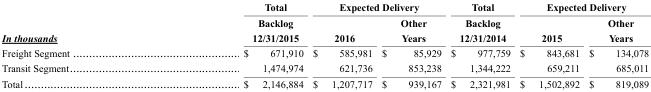table: (1, 0, 648, 89)
table column: (1, 0, 155, 89), (155, 0, 307, 89), (307, 0, 376, 89), (376, 0, 445, 89), (445, 0, 514, 89), (514, 0, 583, 89), (583, 0, 648, 89)
table column header: (1, 0, 648, 45)
table row: (1, 14, 648, 45), (1, 45, 648, 60), (1, 60, 648, 75), (1, 0, 648, 14), (1, 75, 648, 89)
table spanning cell: (1, 0, 155, 45), (155, 0, 307, 45), (445, 0, 514, 45), (307, 0, 445, 14), (514, 0, 648, 14)
